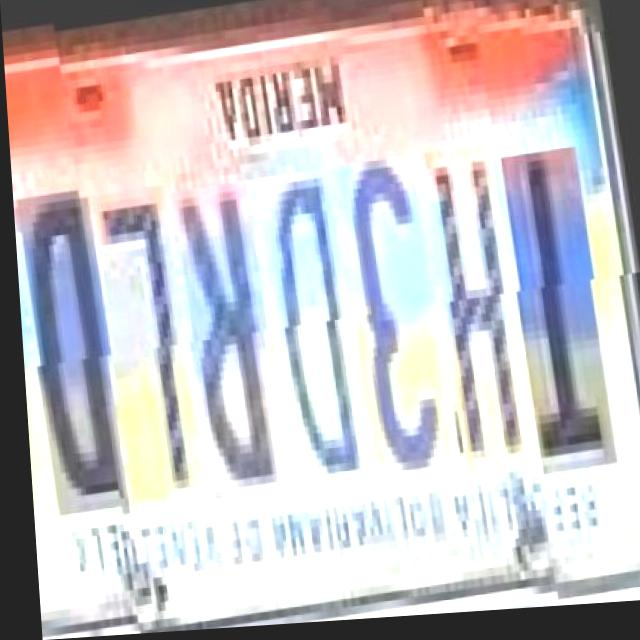3: (338, 156, 450, 484)
d: (18, 186, 127, 514), (259, 166, 367, 493)
h: (426, 145, 530, 481)
l: (93, 177, 199, 497)
r: (172, 177, 284, 496)
t: (500, 145, 612, 473)
